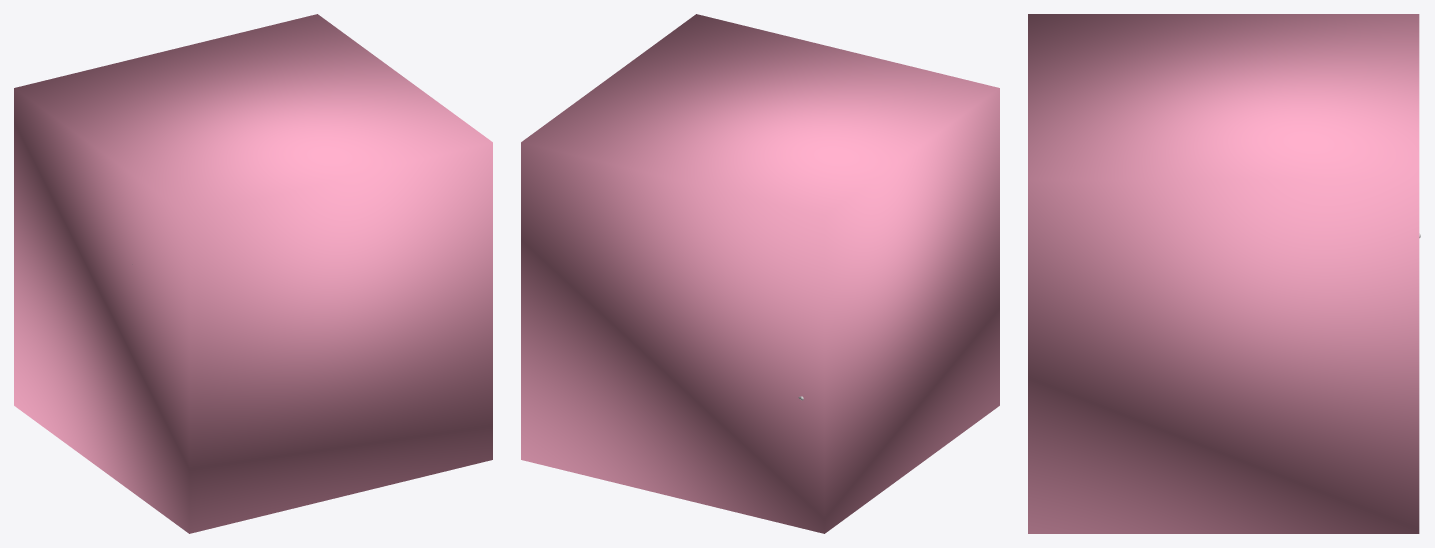
File: racing_2.glb
3 renders of one model, left to right at view 1: azimuth 30°, elevation 25°; view 2: azimuth 150°, elevation 25°; view 3: azimuth 270°, elevation 25°, orthographic. The views are drawn at different scales.
Visible parts, largest first — view 1: Cube; view 2: Cube; view 3: Cube.
Boxes of the visible parts, x1,y1,x2,y2 form: Cube: (14,14,492,533); Cube: (521,14,999,533); Cube: (1028,14,1419,533).
Bounding box in the file's own units: 74.66 × 74.65 × 74.93.
